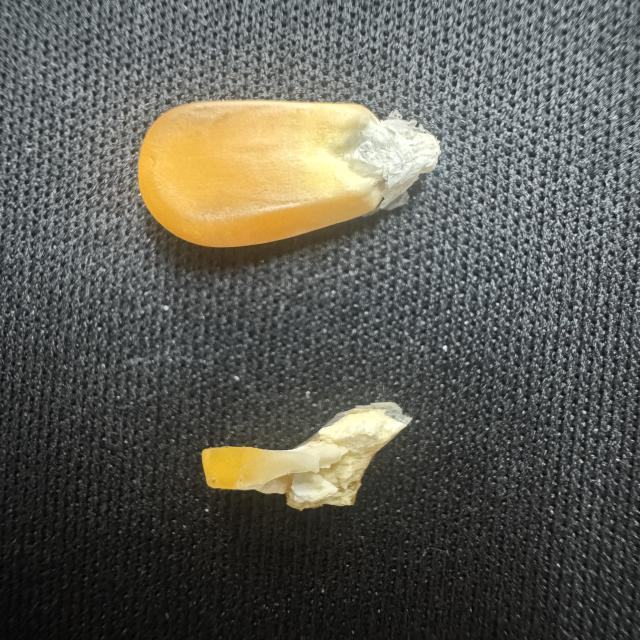Bad-Seed: (172, 392, 417, 526)
Good-Seed: (125, 94, 453, 253)
